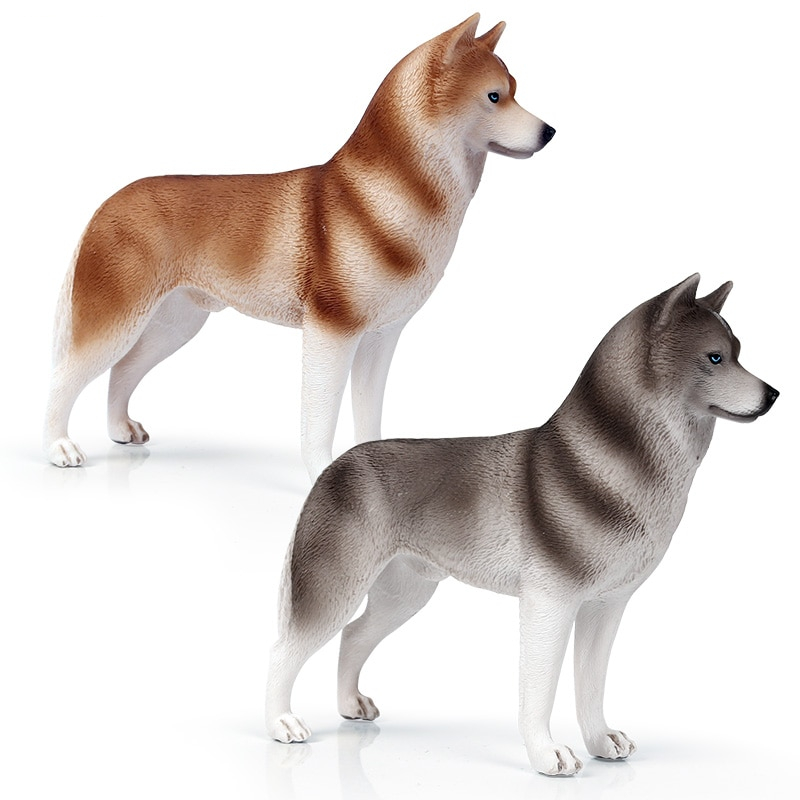husky: (253, 264, 780, 762), (29, 12, 558, 484)
